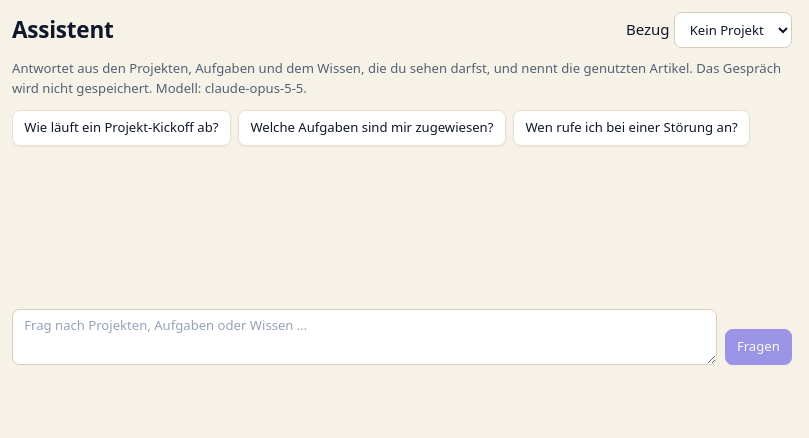
Test: AssistantPage › shows a failure of the model as an alert and sends earlier turns along
Click the button "Wie läuft ein Projekt-Kickoff ab?" at (121, 128), box [12,110,231,146]
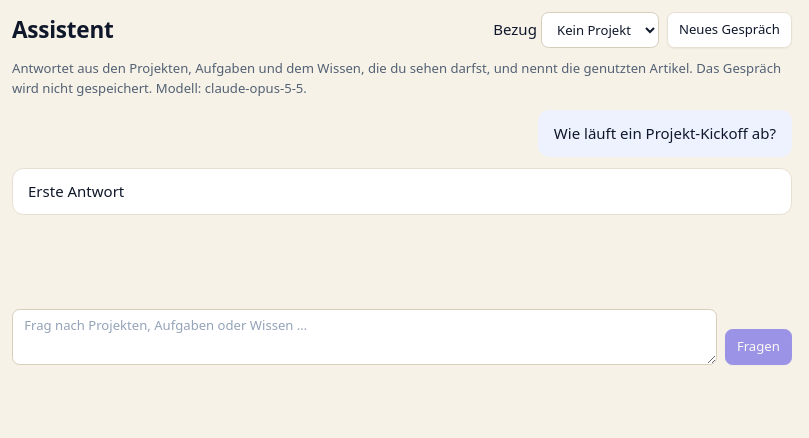
Expected: the text "Erste Antwort" is shown, [28,181,124,201]
Type "Und weiter?" into the text box named "Deine Frage" at (365, 337), box [12,309,717,365]
Then press Enter
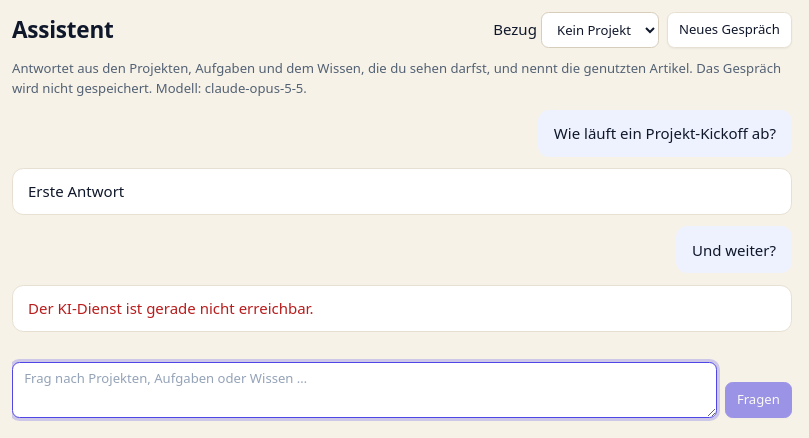
Expected: the message shows "nicht erreichbar", [28,298,313,318]
